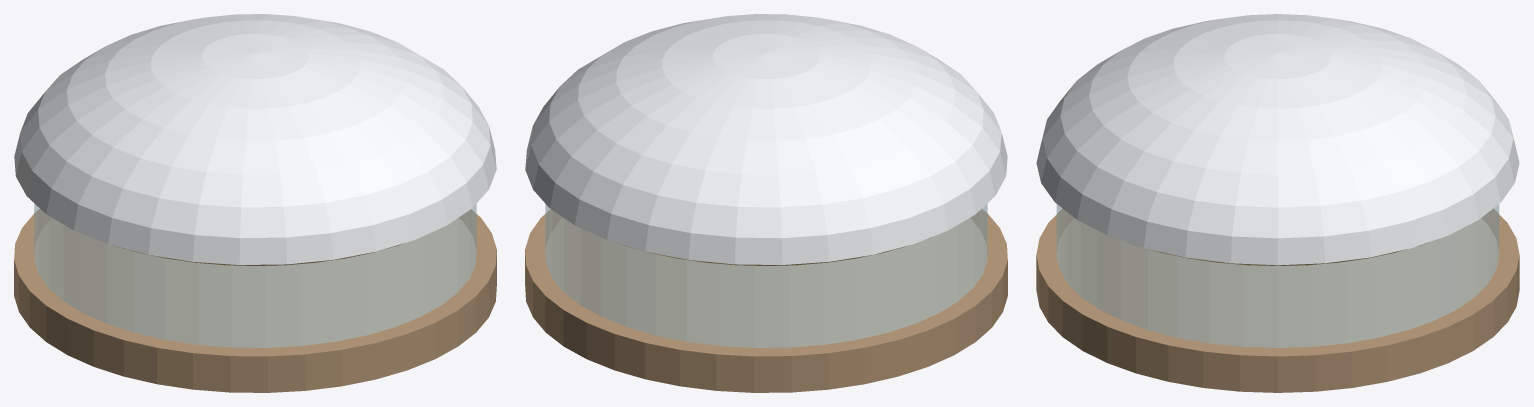
The model's file is reef-harbor-house.glb.
3 renders of one model, left to right at view 1: azimuth 30°, elevation 25°; view 2: azimuth 150°, elevation 25°; view 3: azimuth 270°, elevation 25°, orthographic.
Visible parts, largest first — view 1: Cylinder.142; view 2: Cylinder.142; view 3: Cylinder.142.
Boxes of the visible parts, x1,y1,x2,y2 form: Cylinder.142: [14, 14, 496, 392]; Cylinder.142: [525, 14, 1007, 392]; Cylinder.142: [1036, 14, 1519, 392].
Bounding box in the file's own units: 24 × 13 × 24.
